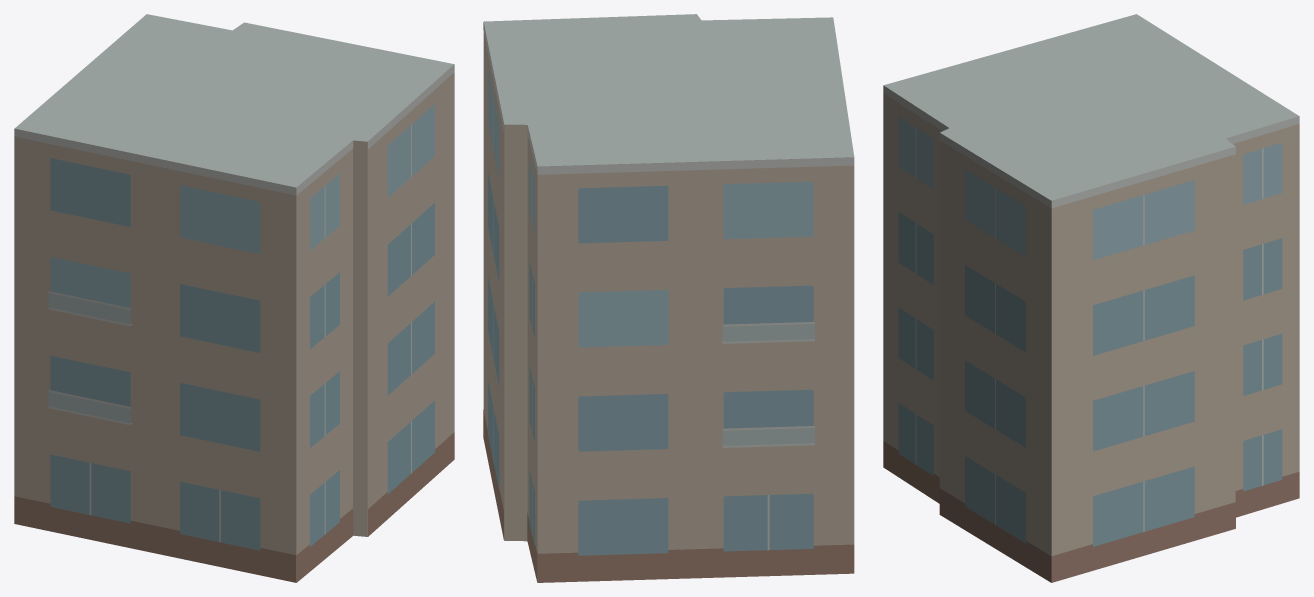
File: survey-upis-33005631.glb
3 views of the same model, side by side, from view 1: azimuth 30°, elevation 25°; view 2: azimuth 150°, elevation 25°; view 3: azimuth 270°, elevation 25° (orthographic). The views are drawn at different scales.
Parts seen in each view (by area): view 1: survey-upis-33005631.tmp; view 2: survey-upis-33005631.tmp; view 3: survey-upis-33005631.tmp.
Part boxes in pixels (x1,y1,x2,y2): survey-upis-33005631.tmp: (14, 14, 454, 582); survey-upis-33005631.tmp: (483, 14, 854, 582); survey-upis-33005631.tmp: (883, 14, 1299, 582).
Bounding box in the file's own units: 12.8 × 12.2 × 12.05.
